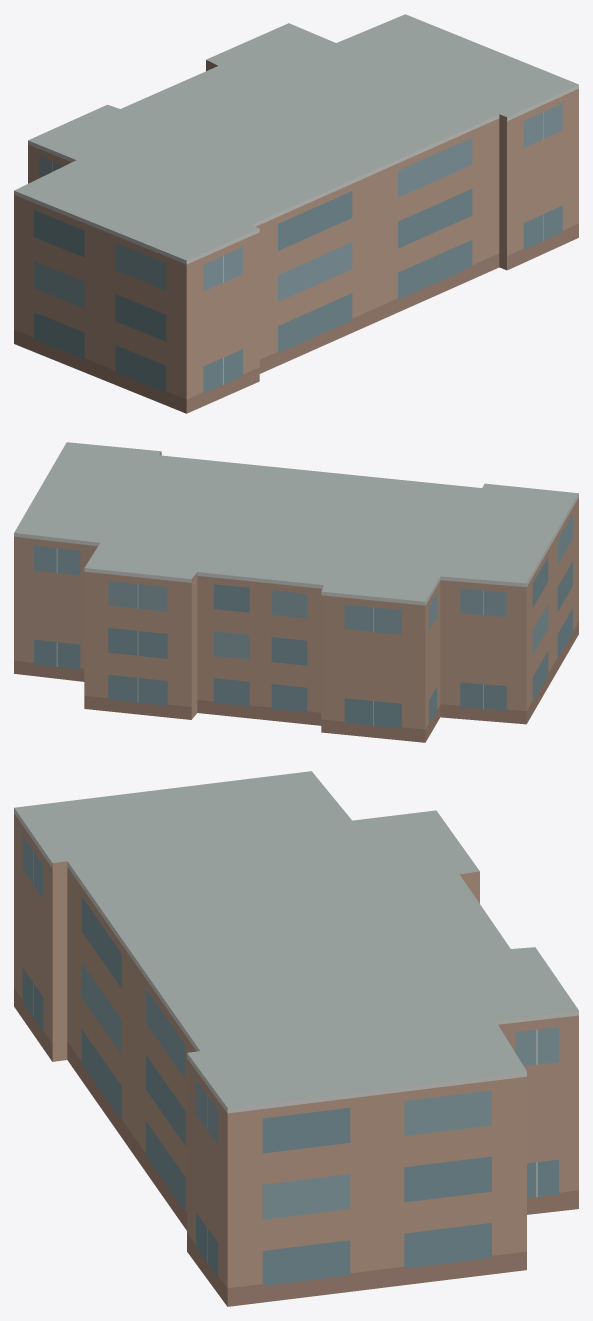
The model's file is survey-upis-32833489.glb.
3 renders of one model, top to bottom at view 1: azimuth 30°, elevation 25°; view 2: azimuth 150°, elevation 25°; view 3: azimuth 270°, elevation 25°, orthographic. The views are drawn at different scales.
Parts seen in each view (by area): view 1: survey-upis-32833489.tmp; view 2: survey-upis-32833489.tmp; view 3: survey-upis-32833489.tmp.
Boxes of the visible parts, x1,y1,x2,y2 form: survey-upis-32833489.tmp: (14,14,578,413); survey-upis-32833489.tmp: (14,442,578,742); survey-upis-32833489.tmp: (14,771,578,1306).
Bounding box in the file's own units: 33.29 × 9.15 × 23.58.
